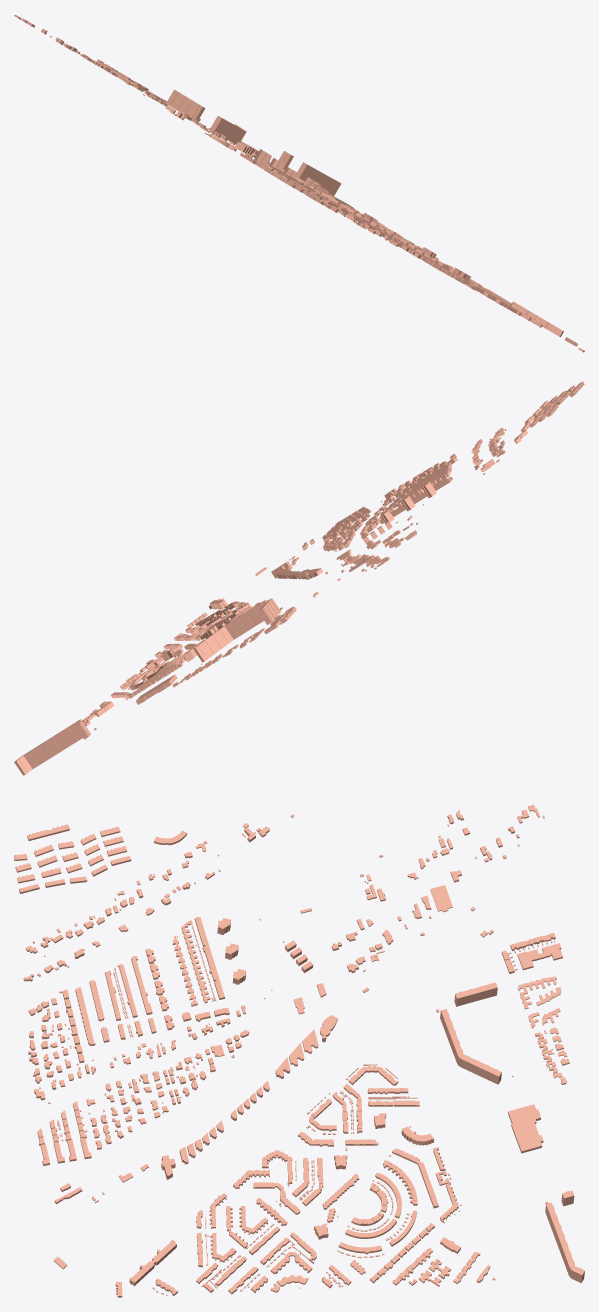
3 views of the same model, one above another, from view 1: azimuth 30°, elevation 25°; view 2: azimuth 150°, elevation 25°; view 3: azimuth 270°, elevation 25° (orthographic). The views are drawn at different scales.
Size of the model in its own units: 1029 by 746 by 1281.
